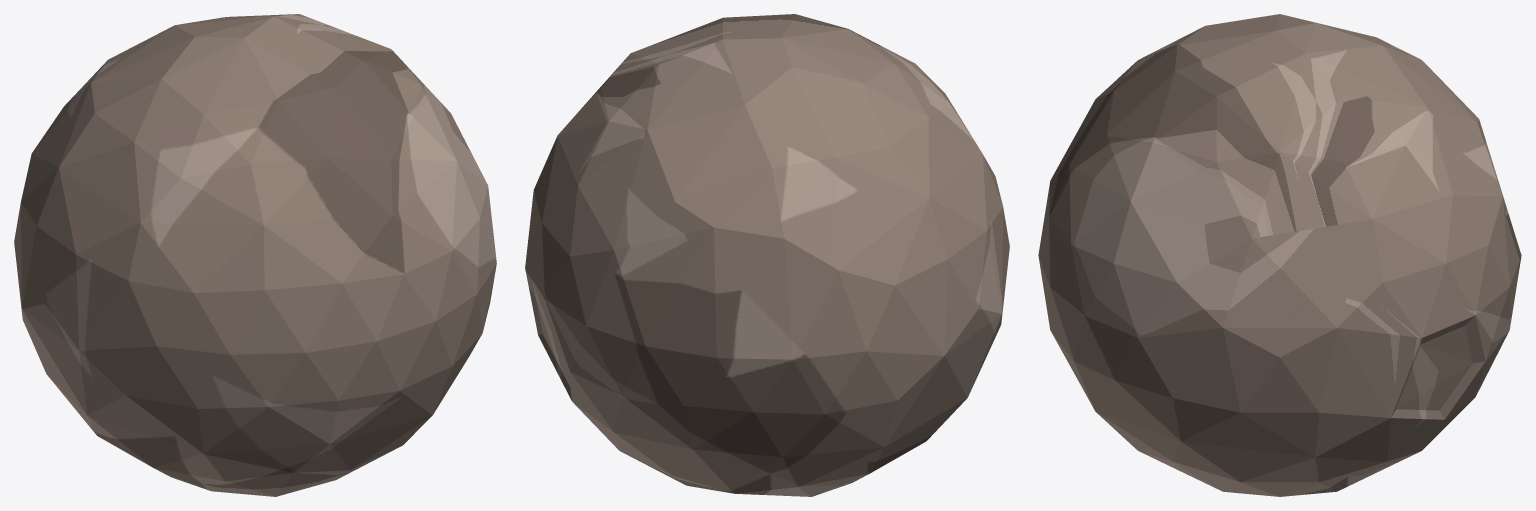
Rendered from MercuryCartoon.fbx.
The picture shows the model from 3 angles, left to right: view 1: azimuth 30°, elevation 25°; view 2: azimuth 150°, elevation 25°; view 3: azimuth 270°, elevation 25°; orthographic projection.
Visible parts, largest first — view 1: MercuryCartoon; view 2: MercuryCartoon; view 3: MercuryCartoon.
Part boxes in pixels (box(x1,y1,x2,y2)): MercuryCartoon: box(14, 14, 496, 496); MercuryCartoon: box(525, 14, 1009, 496); MercuryCartoon: box(1038, 14, 1521, 496).
Bounding box in the file's own units: 475 × 475 × 475.
